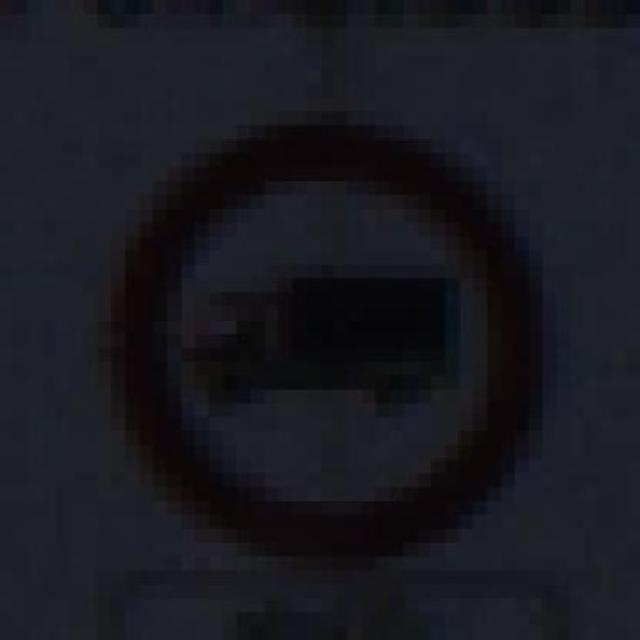Truck traffic is prohibited: (69, 111, 585, 571)
